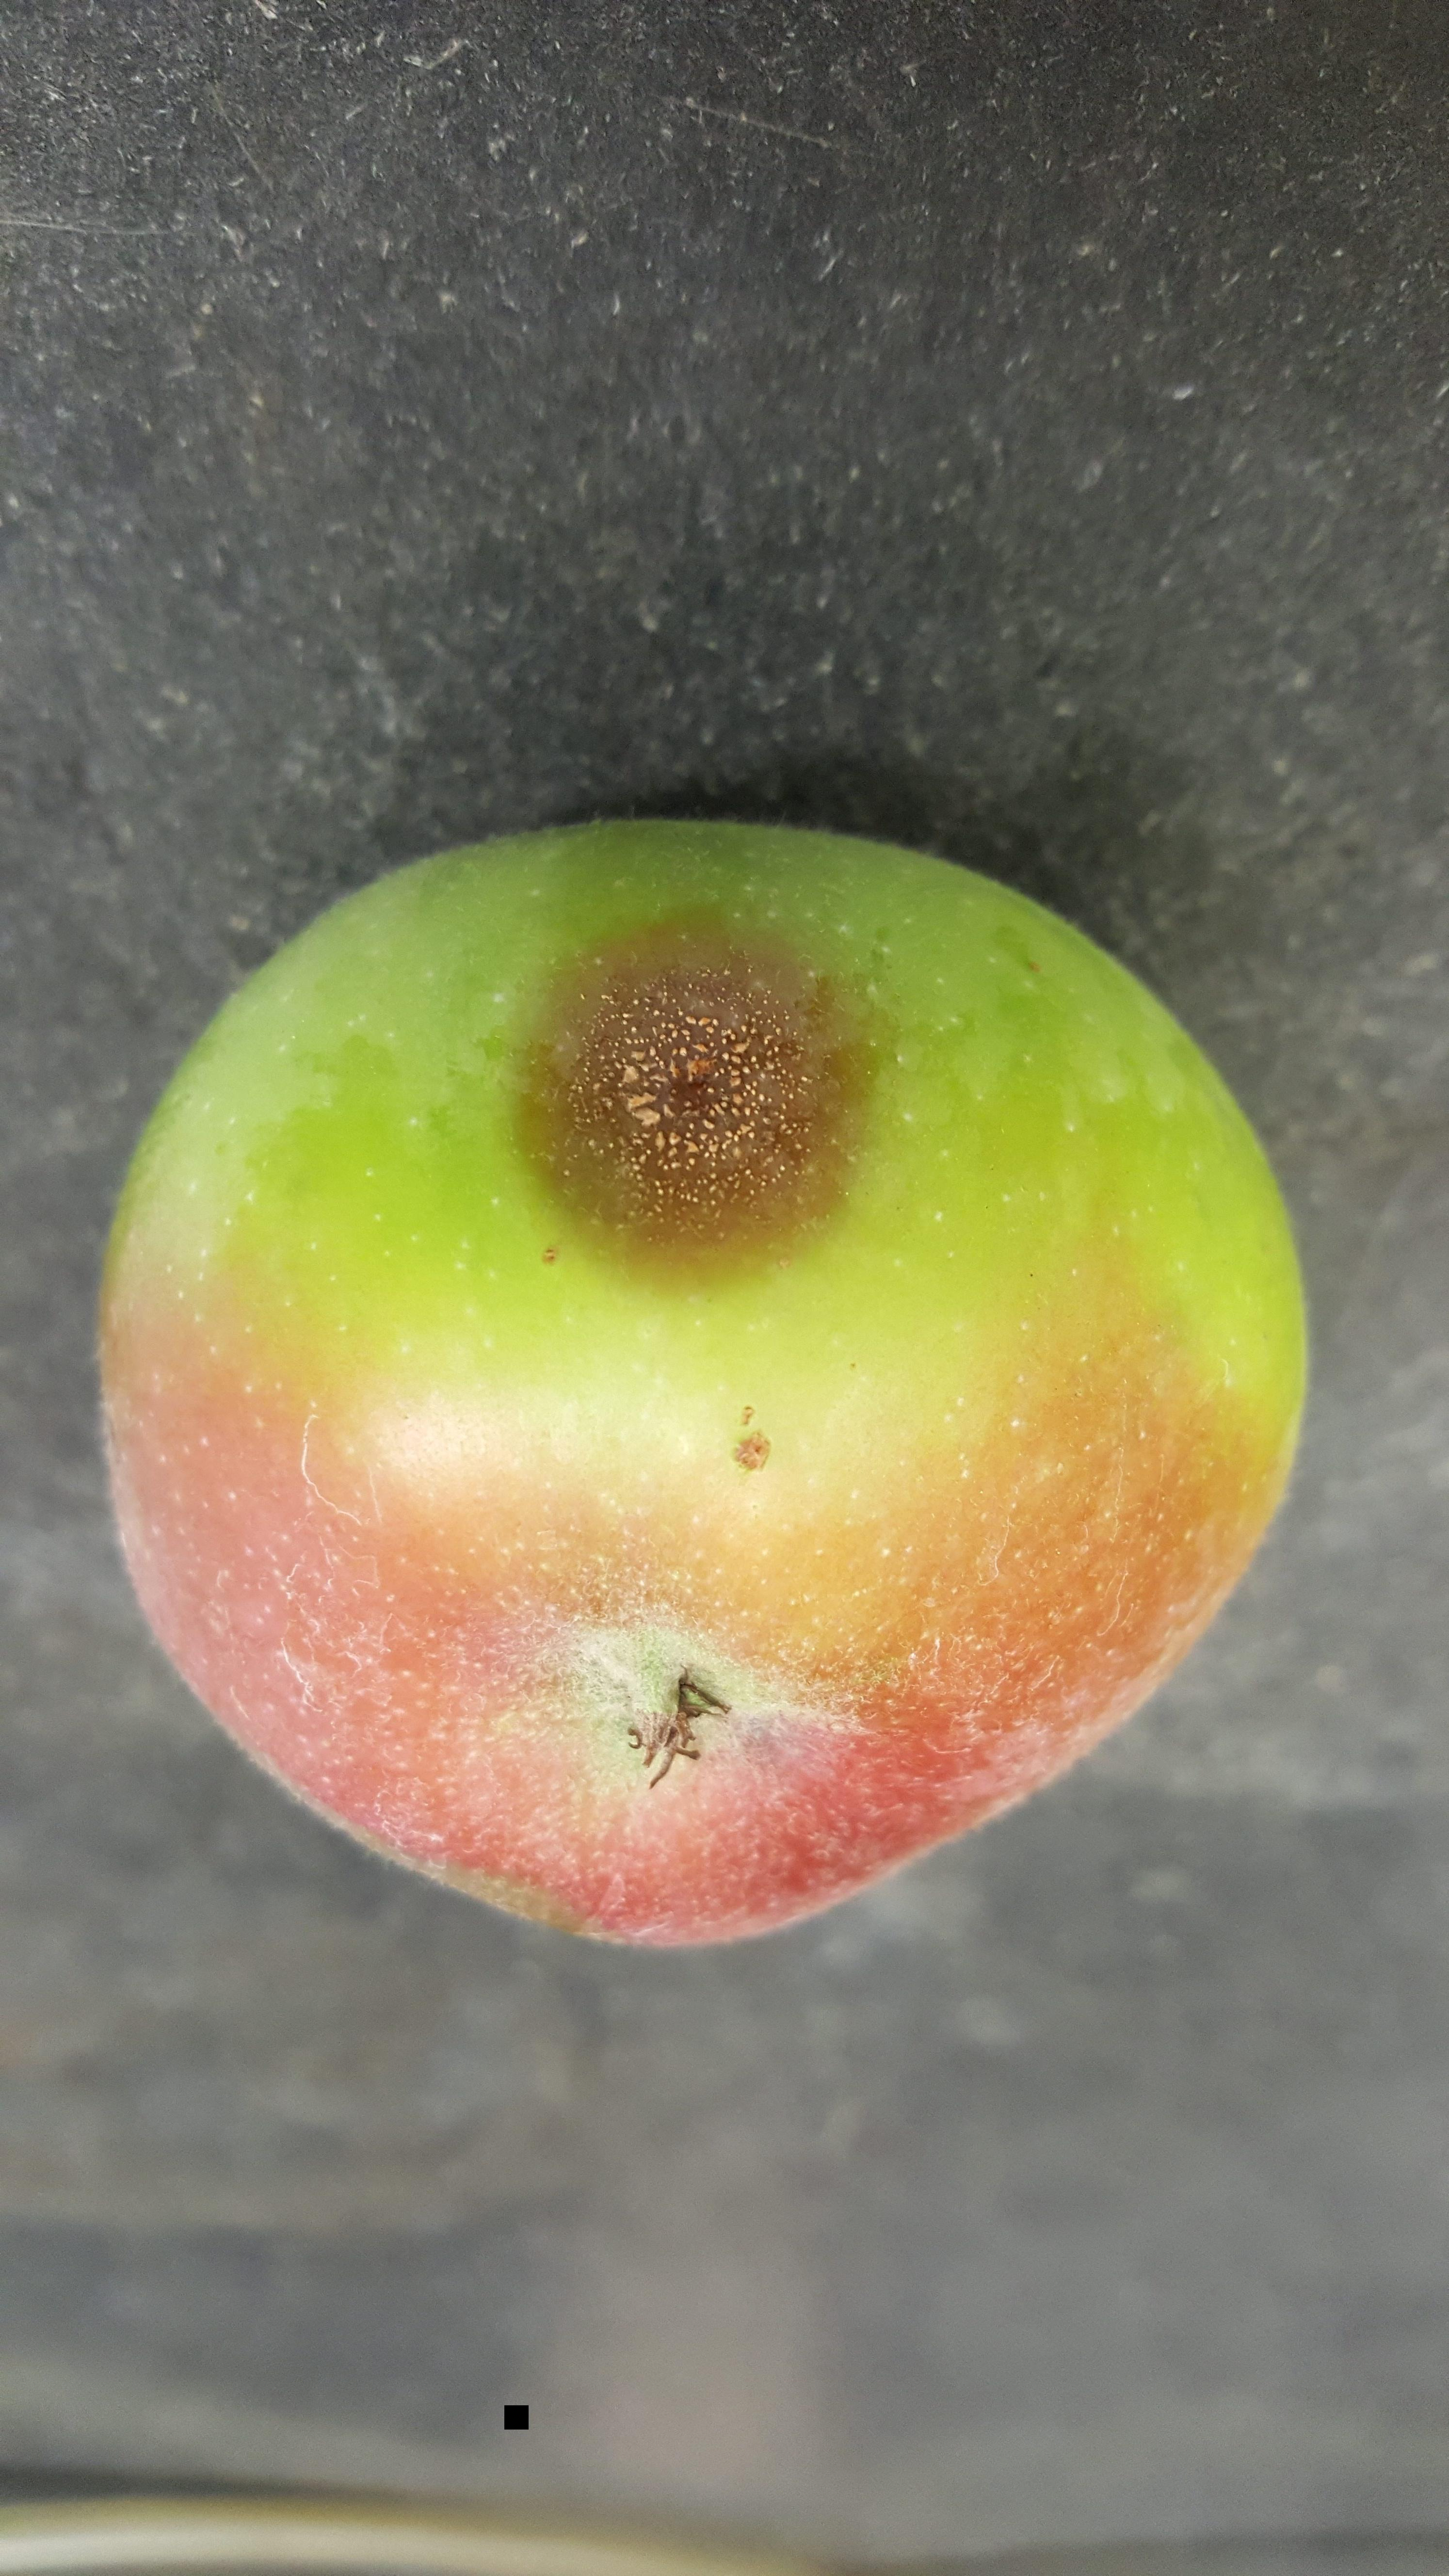rotten apple: (81, 821, 1315, 1962)
